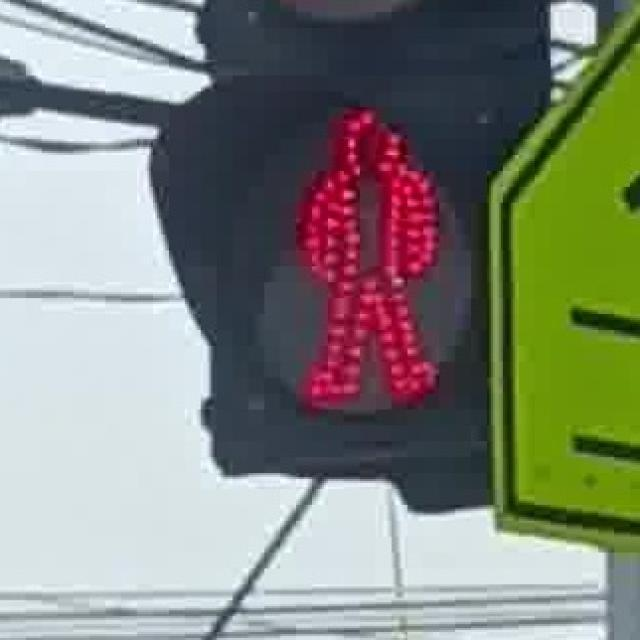red-crossing: (260, 97, 485, 416)
